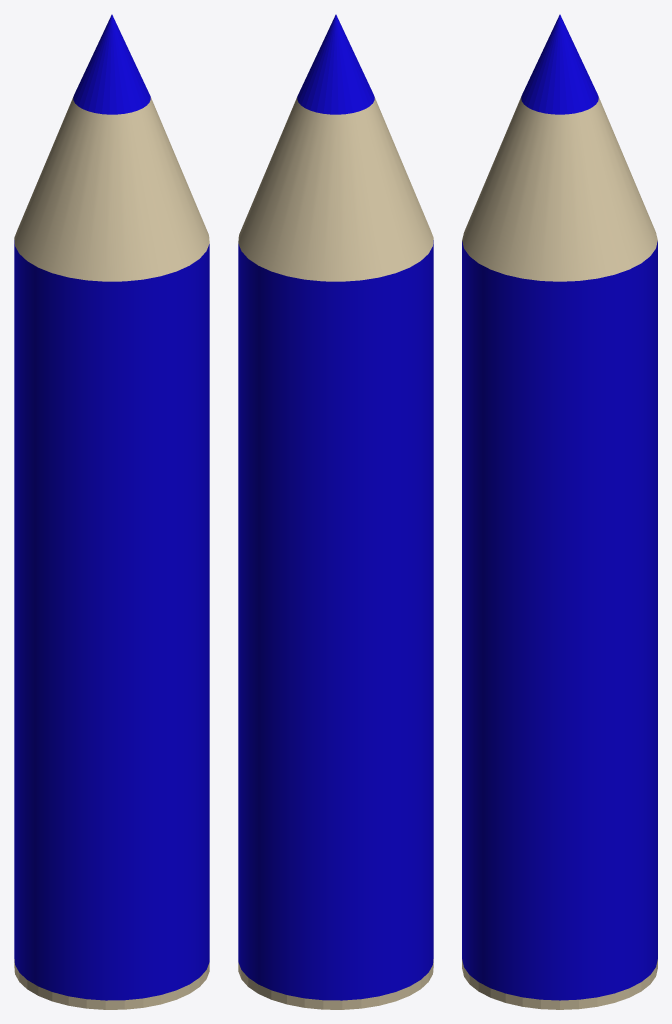
Rendered from pen.fbx.
The picture shows the model from 3 angles, left to right: view 1: azimuth 30°, elevation 25°; view 2: azimuth 150°, elevation 25°; view 3: azimuth 270°, elevation 25°; orthographic projection.
Parts seen in each view (by area): view 1: Cylinder.001; view 2: Cylinder.001; view 3: Cylinder.001.
Boxes of the visible parts, left/top/right/bottom form: Cylinder.001: left=14, top=14, right=209, bottom=1009; Cylinder.001: left=238, top=14, right=433, bottom=1009; Cylinder.001: left=462, top=14, right=657, bottom=1009.
Size of the model in its own units: 200 by 1076 by 200.
